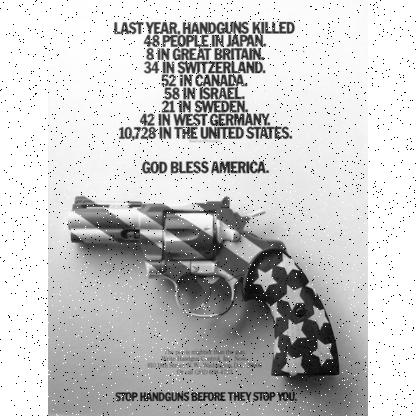gun: (64, 192, 340, 378)
